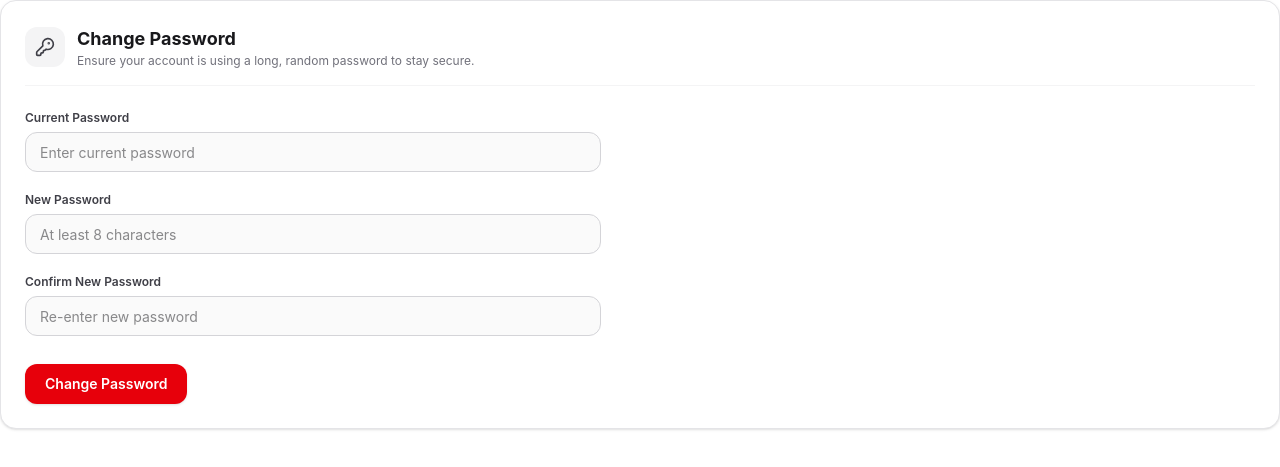
Test: Task U5: Account Settings Page & Components › Password Settings › client validation catches short passwords (< 8 chars)
In the password field labelled "Current Password": (313, 152) [25,132,601,172], type "CurrentPass123"
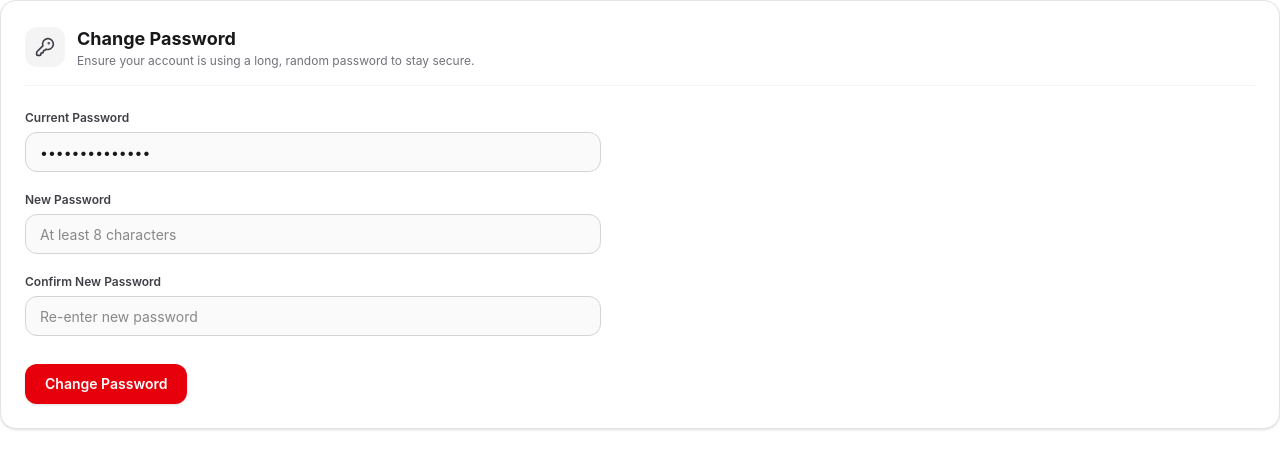
In the password field labelled "New Password": (313, 234) [25,214,601,254], type "short"
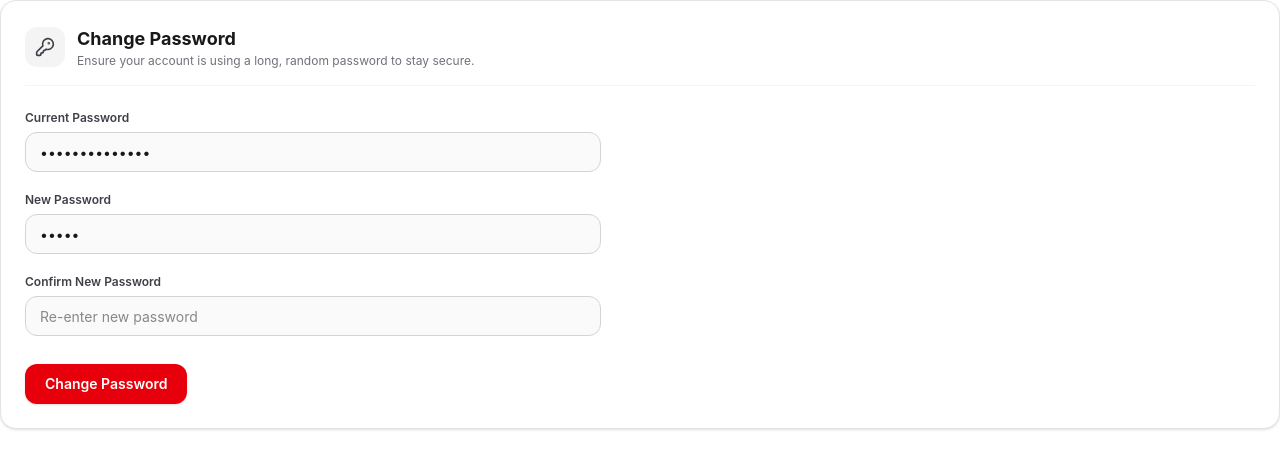
In the password field labelled "Confirm New Password": (313, 316) [25,296,601,336], type "short"
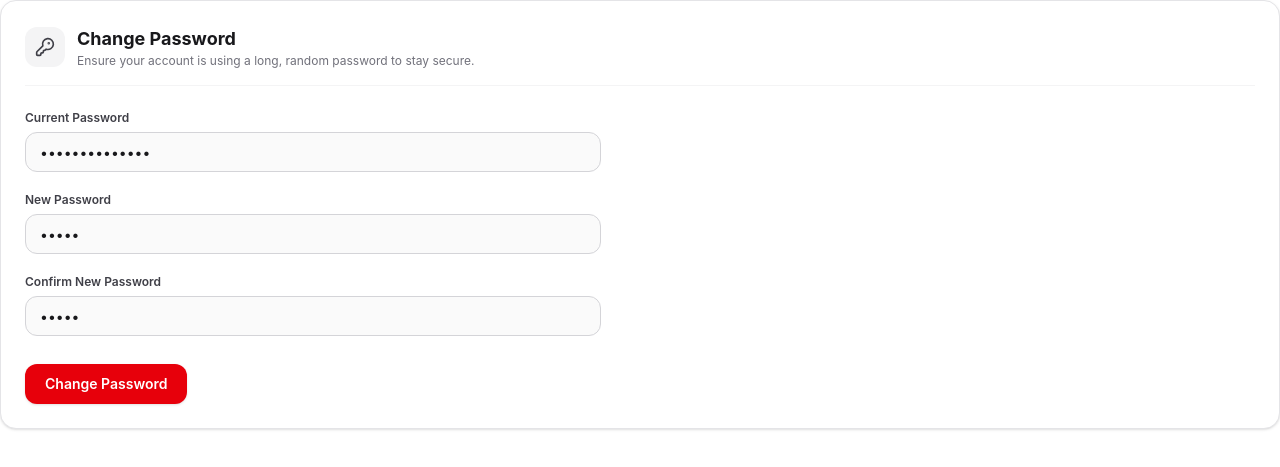
Click the button "Change Password": click(106, 384) [25,364,187,404]
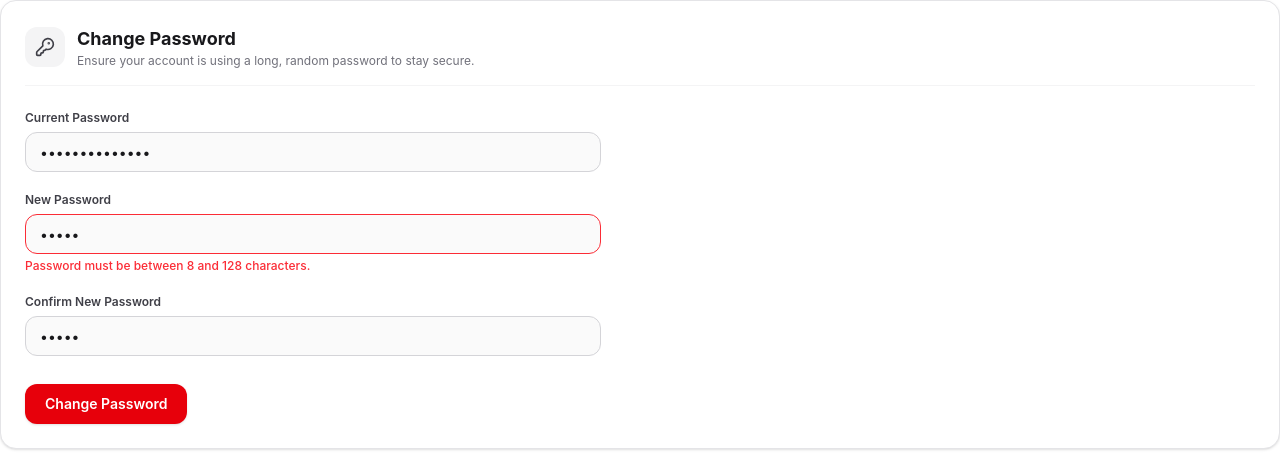
Expected: the text "Password must be between 8 and 128 characters." is shown, [25,258,310,273]
